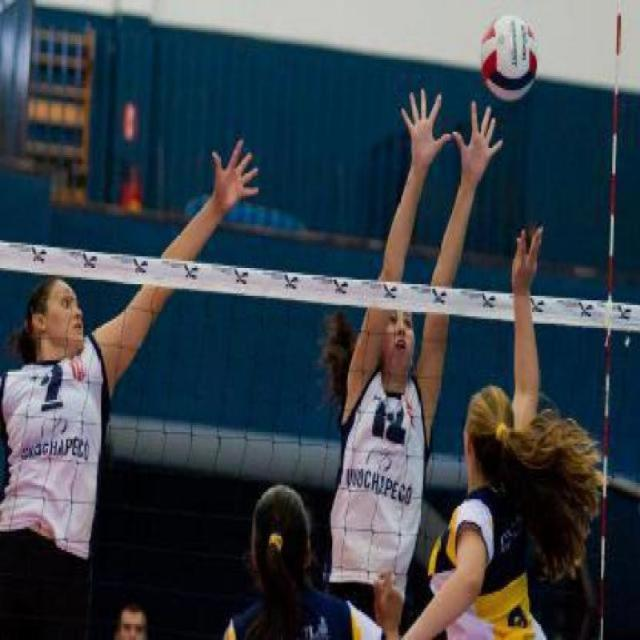volleyball: (476, 9, 539, 102)
